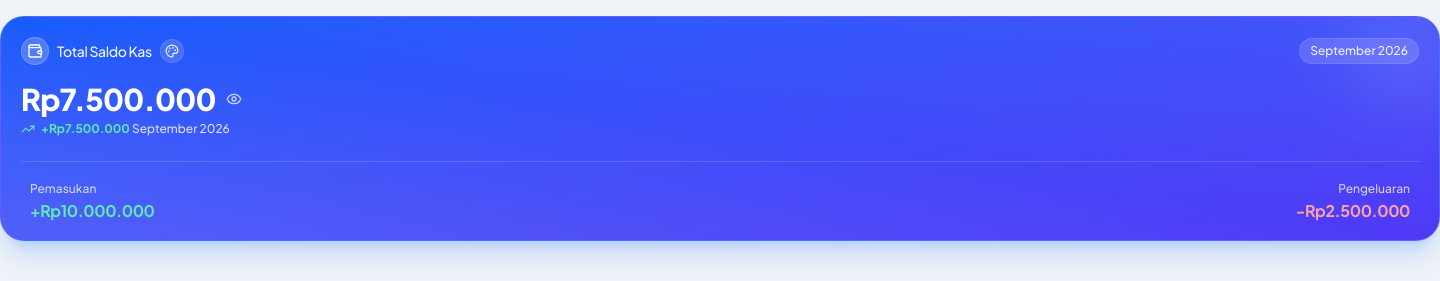
Test case: FinanceSummary Interactive Features › renders total balance and toggles privacy on balance row click
This screenshot has width=1440, height=281.
Expected: the text "Rp7.500.000" is shown, [21, 81, 216, 117]
Expected: the text "+Rp10.000.000" is shown, [30, 200, 154, 221]
// Click the balance row (has title 'Klik untuk sembunyikan saldo')
Click the button titled "Klik untuk sembunyikan saldo" at (131, 108), box [21, 80, 242, 136]
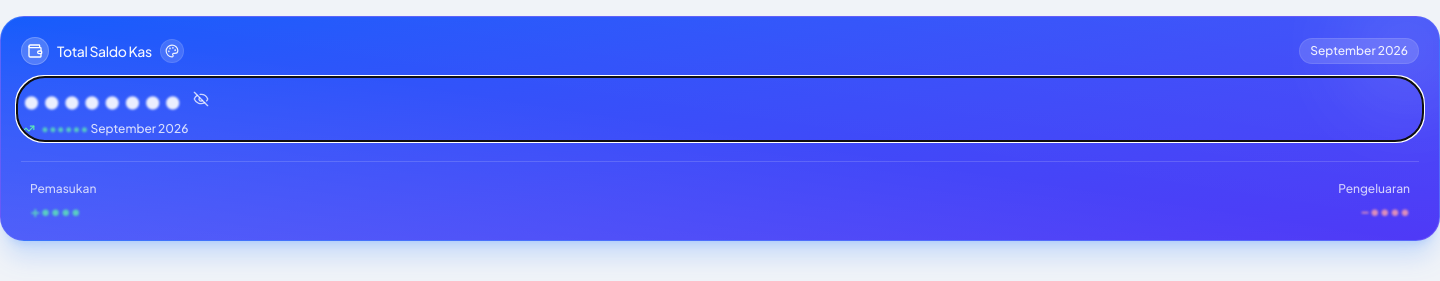
Expected: the text "••••••••" is shown, [21, 81, 182, 117]
Expected: the text "+••••" is shown, [30, 200, 81, 221]
Expected: the text "-••••" is shown, [1360, 200, 1410, 221]
// Click again to reveal
Click the button titled "Klik untuk tampilkan saldo" at (115, 108), box [21, 80, 208, 136]
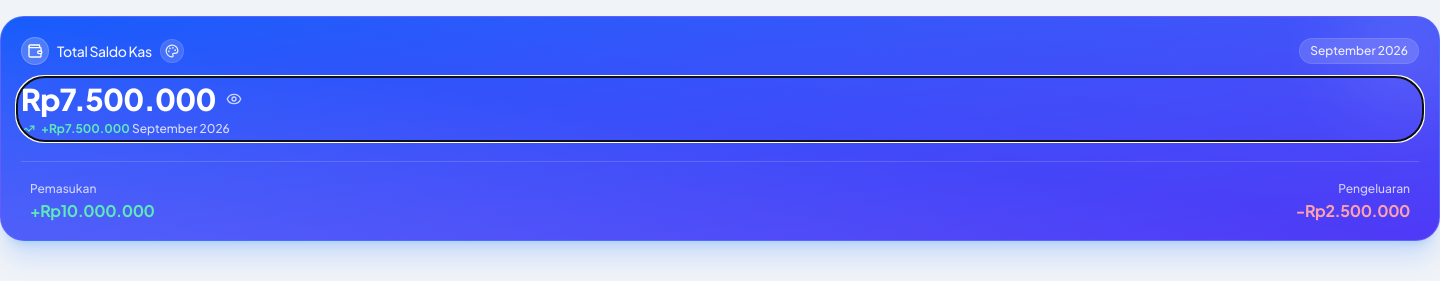
Expected: the text "Rp7.500.000" is shown, [21, 81, 216, 117]
